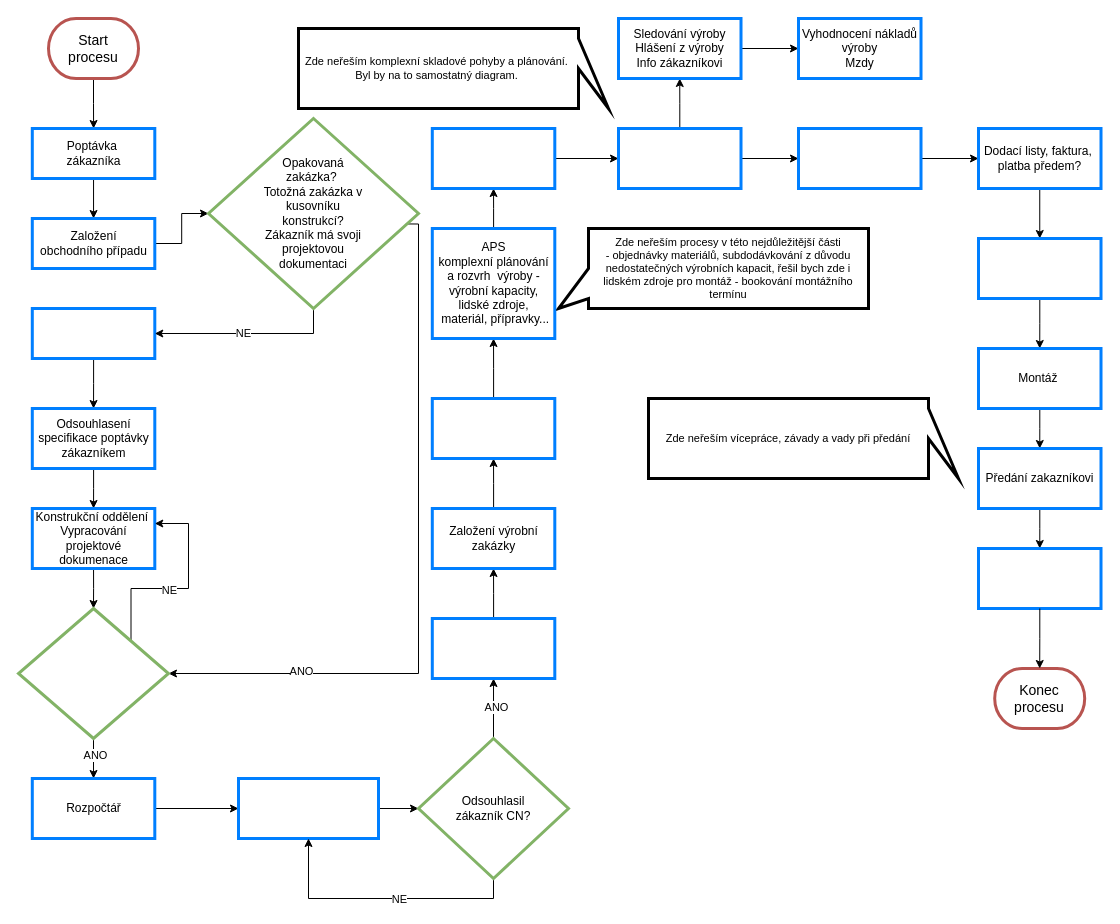
This 1120x924 diagram has some shape labels left out. Here are the shapes that lost their labels. From the top down, the box of each, then its label:
(430, 126, 556, 190): Výrobní příkazy
(616, 126, 742, 190): Výroba konstrukce
(796, 126, 922, 190): Příjem na sklad
(976, 236, 1102, 300): Doprava
(30, 306, 156, 360): Specifikace poptávky (klient, obchodník, technolog)
(430, 396, 556, 460): Přímá výrobní dokumentace z PD
(976, 546, 1102, 610): Interní vyhodnocení zakázky, příjem nápravných opatření
(430, 616, 556, 680): Prodejní objednávka Smlouva o dílo
(16, 606, 170, 740): Odsouhlasení projektové dokumentace zákazníkem Vše OK?
(236, 776, 380, 840): Cenová nabídka, vč. orientačního termínu dodání - pokud je implementované APS
